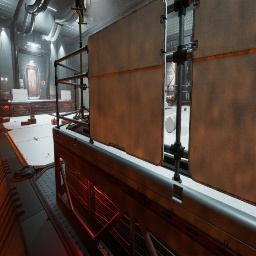0: (165, 112, 181, 133), (165, 102, 168, 108)
EmergencyPhone ,: (43, 80, 45, 84)
FireAlarm ,: (41, 81, 43, 84)
FireExtinguisher ]: (21, 121, 31, 126), (61, 120, 69, 124), (66, 111, 68, 113)
FirstAidBox ,: (28, 118, 37, 124), (51, 118, 57, 125), (30, 115, 35, 119)
NitrogenTank ,: (0, 117, 10, 123), (0, 98, 9, 102)
SafetySwitchPanel ,: (19, 79, 24, 89)
